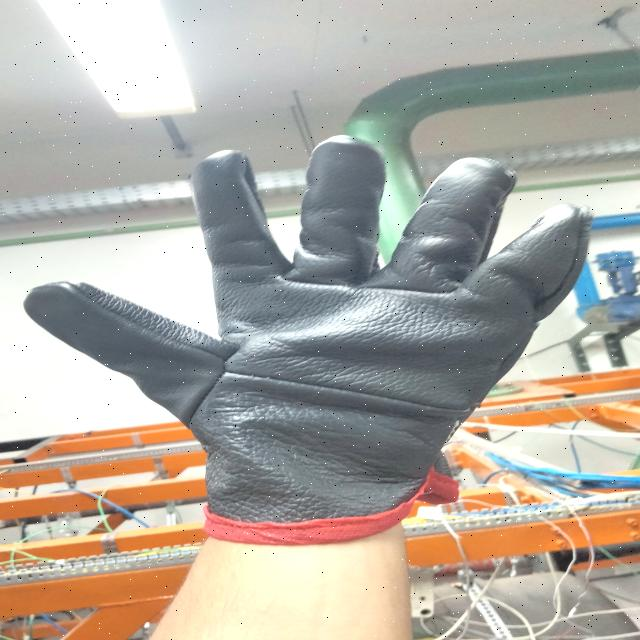Gloves: (26, 132, 582, 534)
